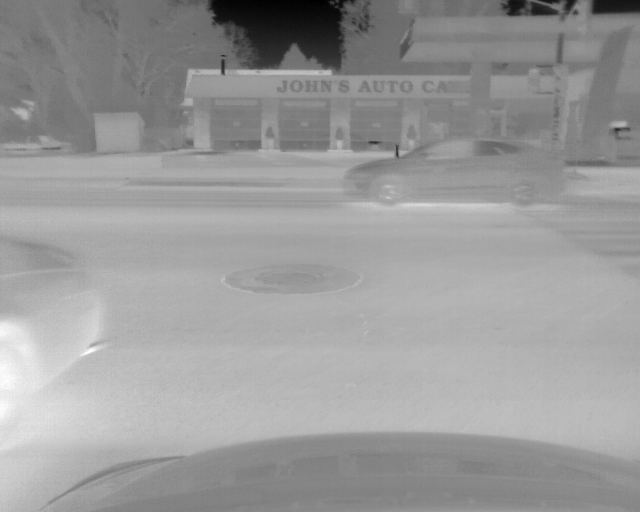car: (1, 225, 104, 446), (342, 133, 562, 209)
